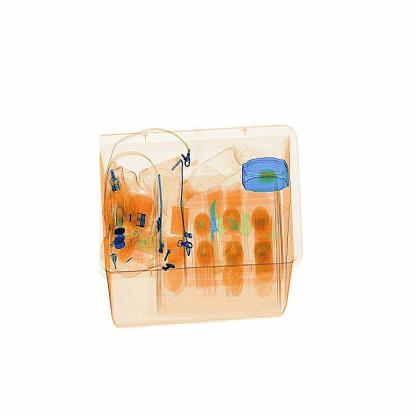wrench: (204, 181, 226, 280)
